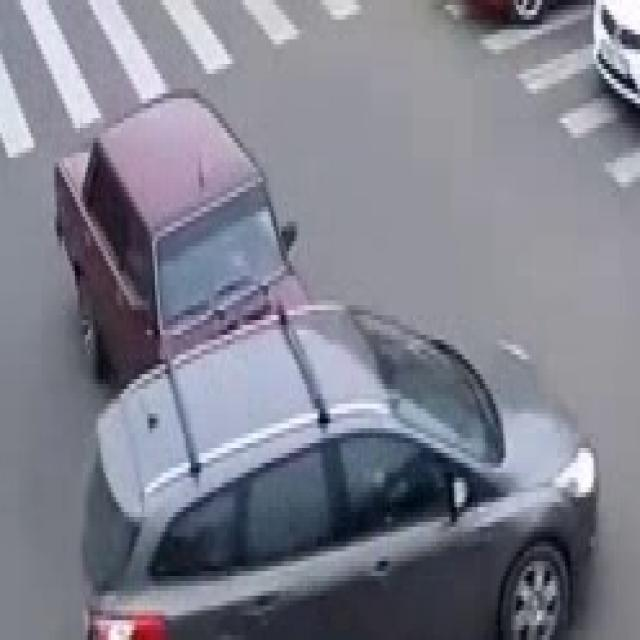accident: (42, 60, 575, 640)
